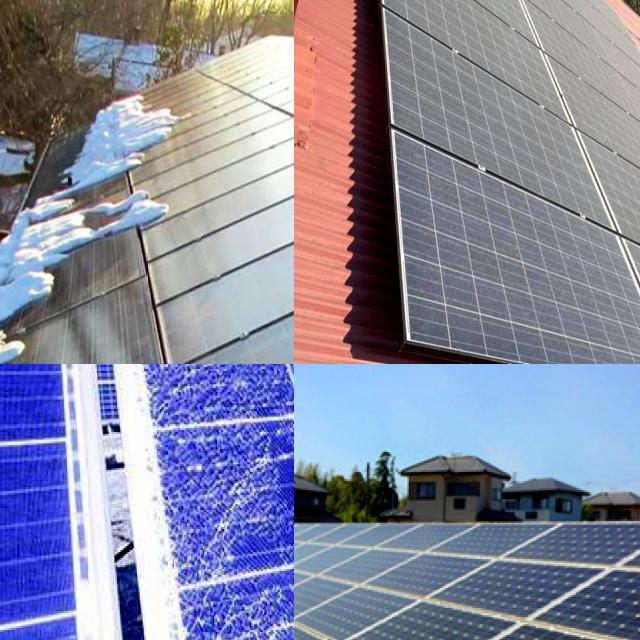crack: (450, 534, 607, 640), (339, 581, 520, 640)
dust: (394, 131, 536, 347), (544, 197, 640, 364), (398, 0, 511, 121), (559, 62, 640, 181), (380, 0, 480, 58), (519, 0, 593, 49)
hotspot: (197, 562, 243, 640)
panel: (38, 197, 164, 250), (122, 90, 188, 180), (62, 115, 110, 208), (0, 248, 75, 305), (0, 311, 44, 364)
